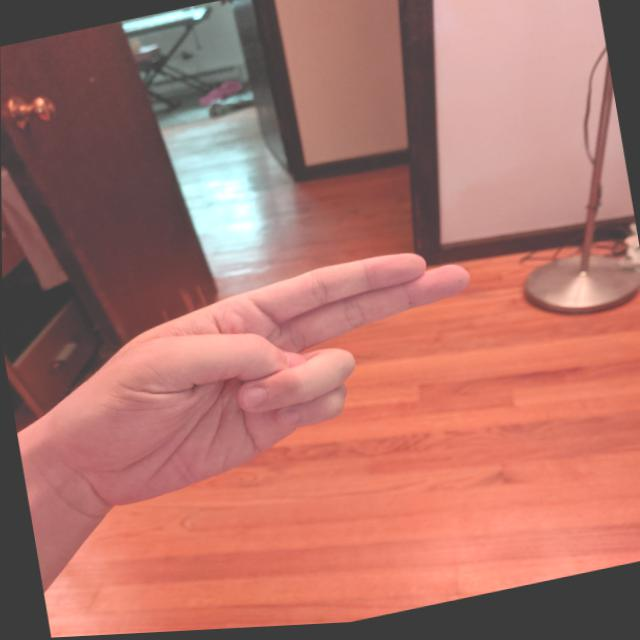H: (46, 235, 508, 523)
